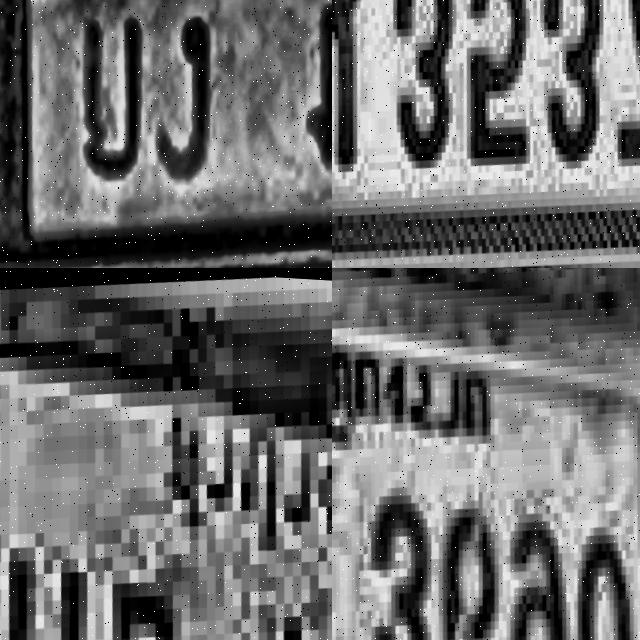license-plate: (332, 268, 640, 640), (0, 298, 332, 640), (0, 0, 332, 268), (332, 0, 640, 268)
